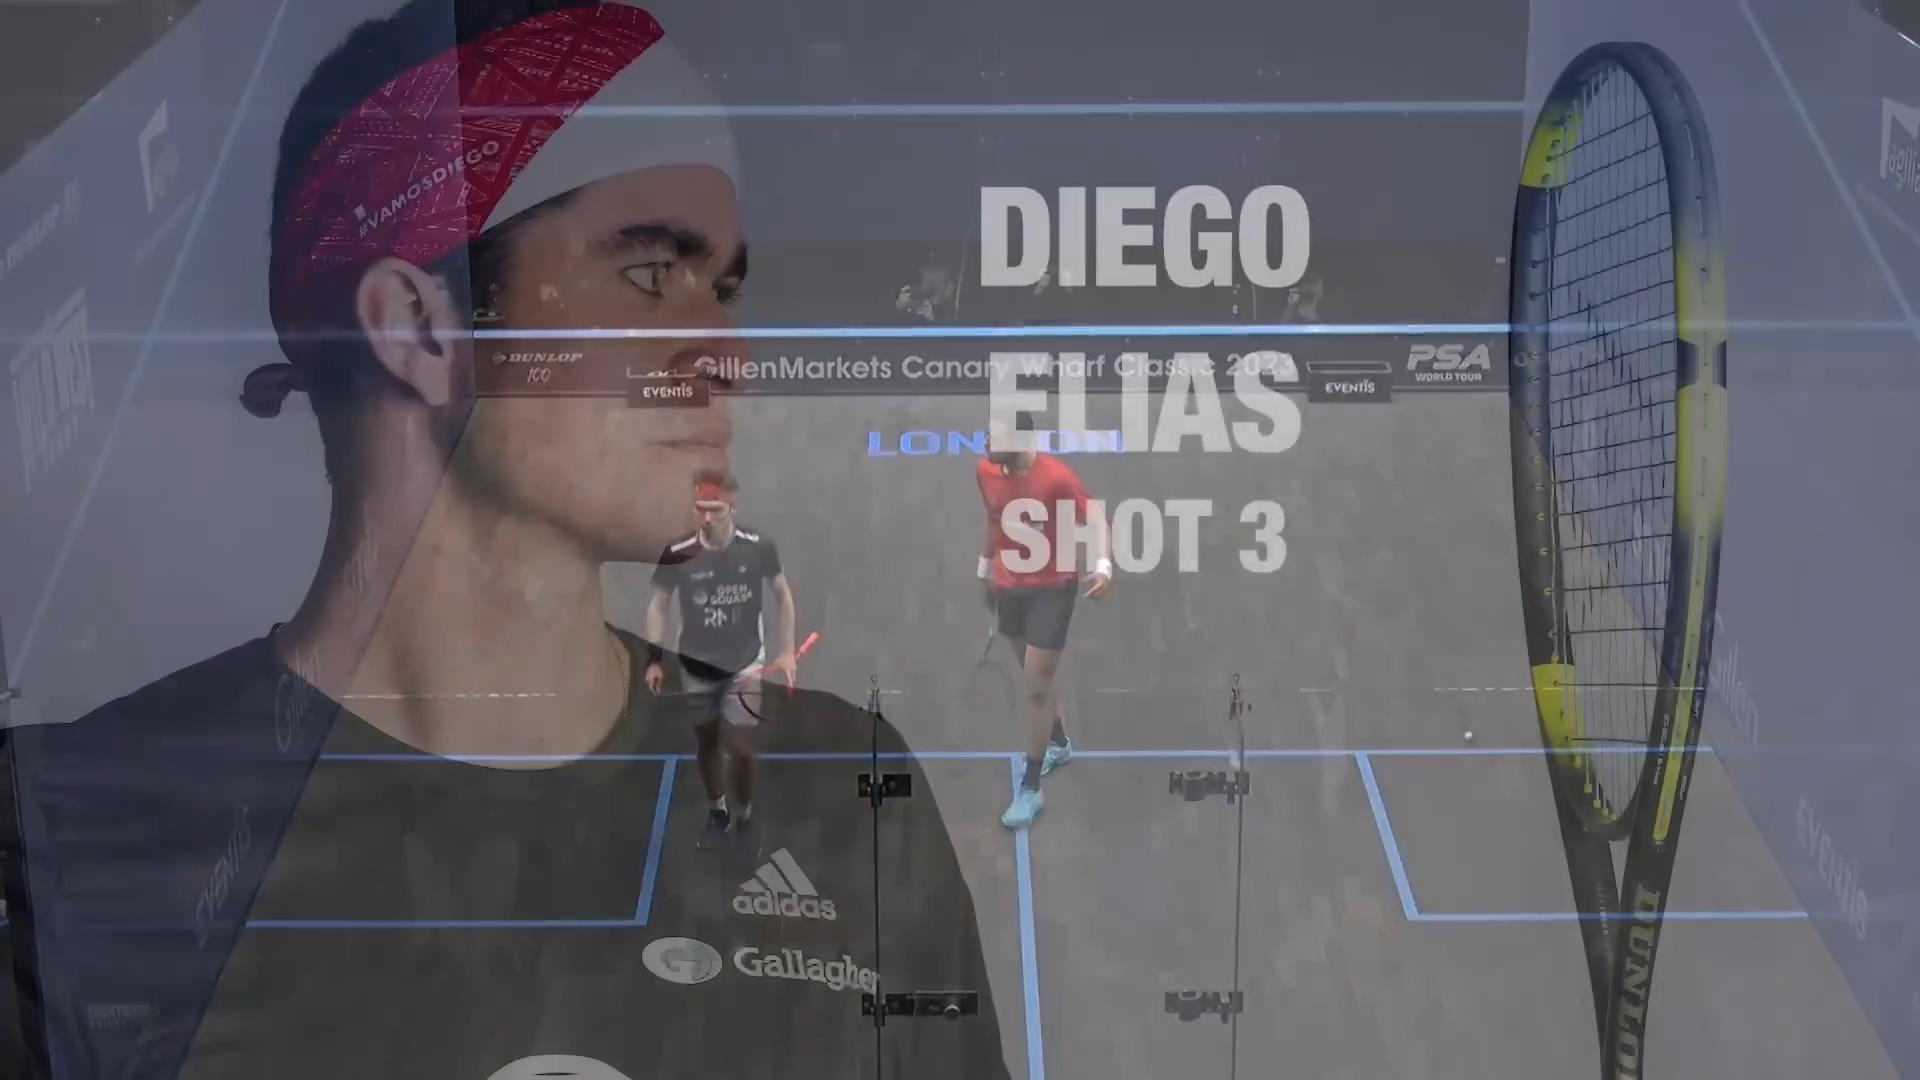Racket: (731, 621, 828, 733)
